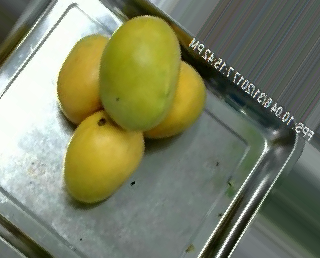Mango: (96, 10, 191, 132), (58, 111, 157, 212), (132, 53, 211, 154), (55, 28, 126, 126)
